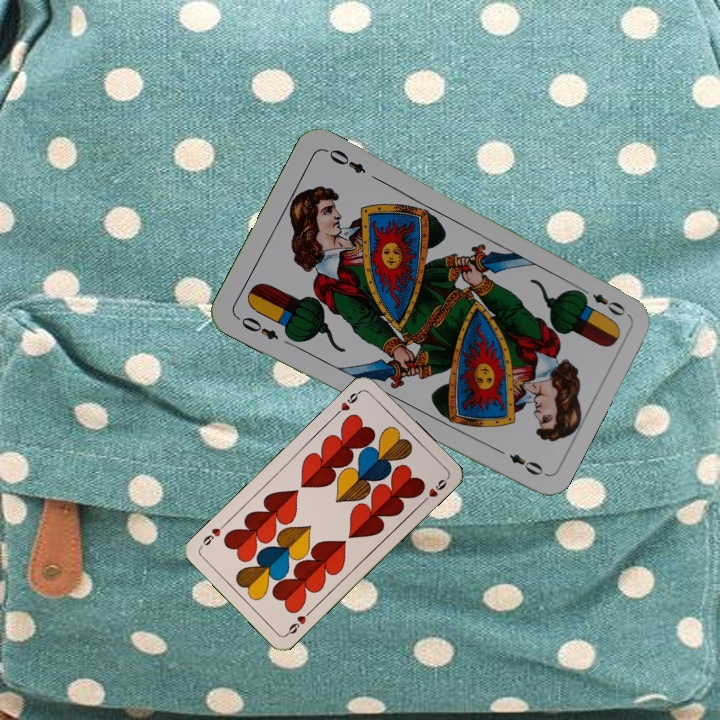EO: (575, 283, 629, 319), (232, 312, 281, 343)
H9: (282, 606, 315, 638), (331, 386, 364, 418)
